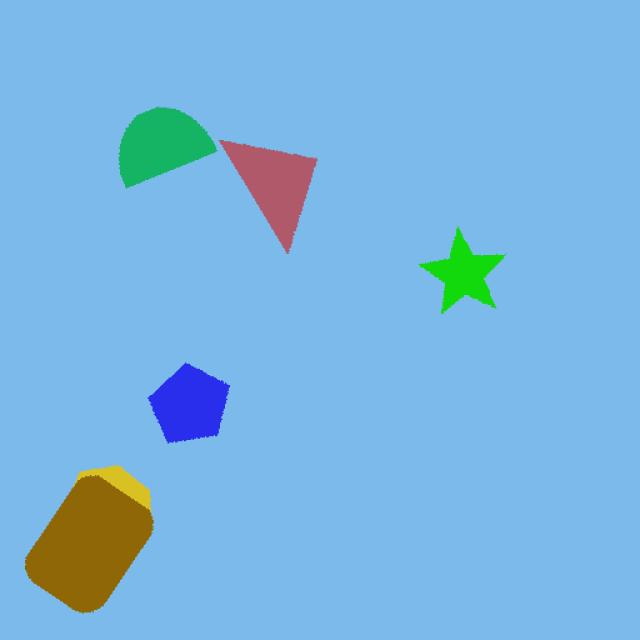Pentagon: (139, 348, 237, 452)
Rectangle: (23, 476, 166, 628)
Semicircle: (88, 90, 224, 199)
Star: (411, 214, 524, 340)
Triangle: (211, 125, 322, 278)
